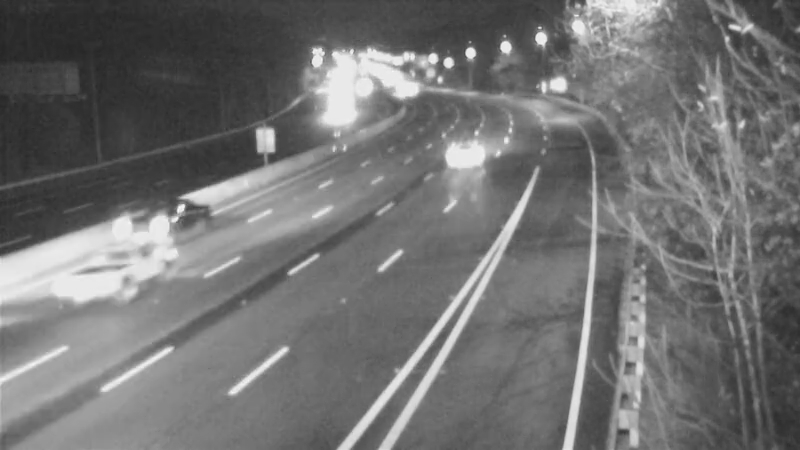vehicle: (426, 112, 506, 192), (111, 179, 191, 259)
